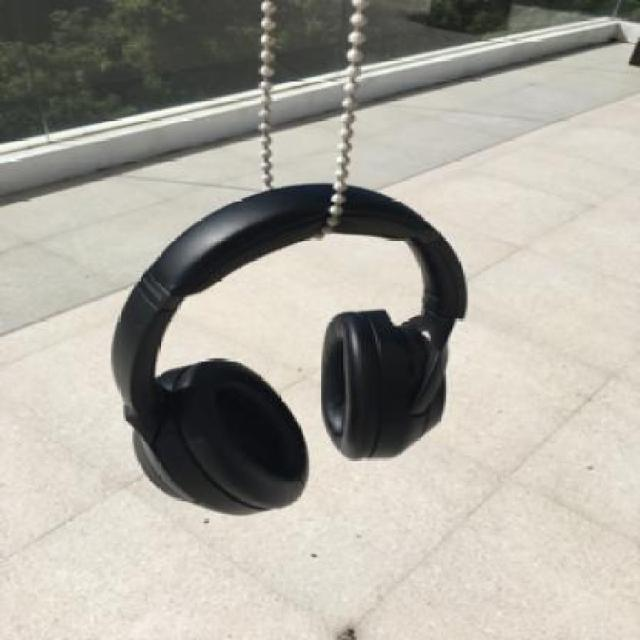earphone: (66, 100, 502, 523)
